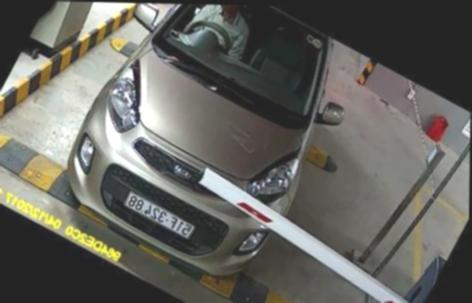License_Plate: (121, 188, 196, 246)
